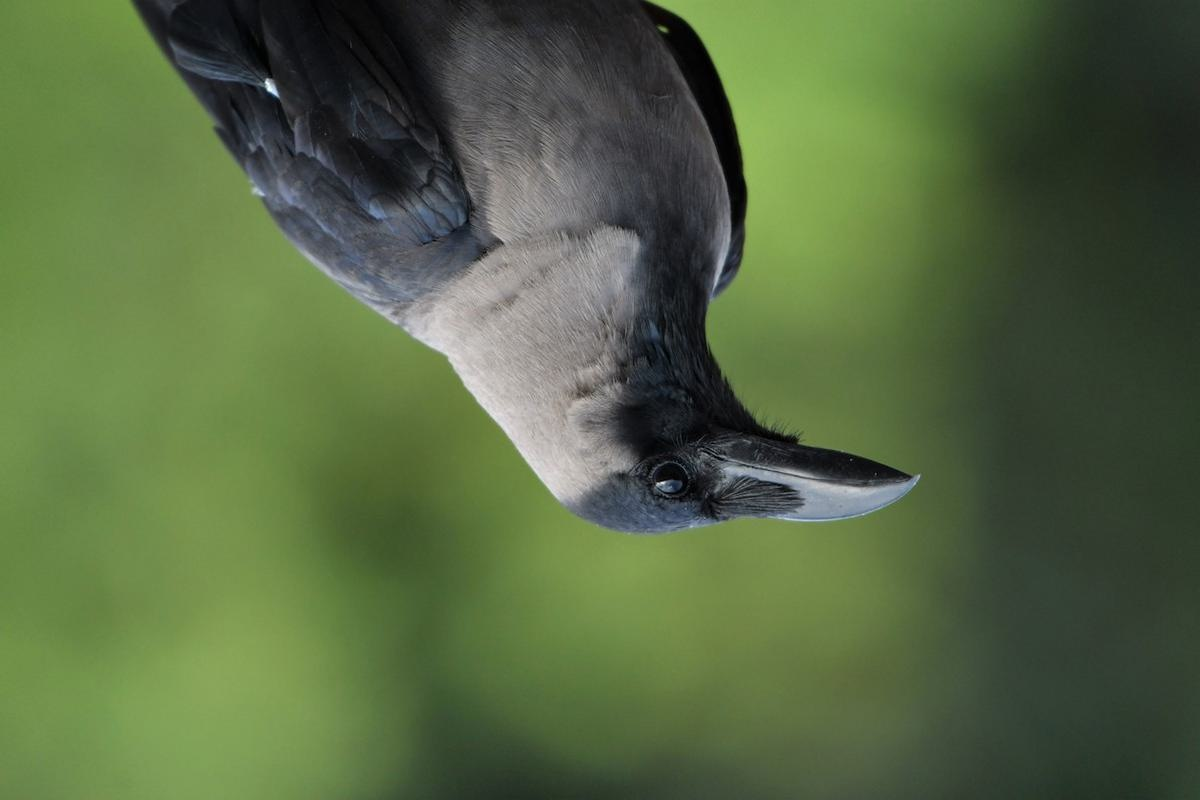crow: (172, 1, 938, 542)
